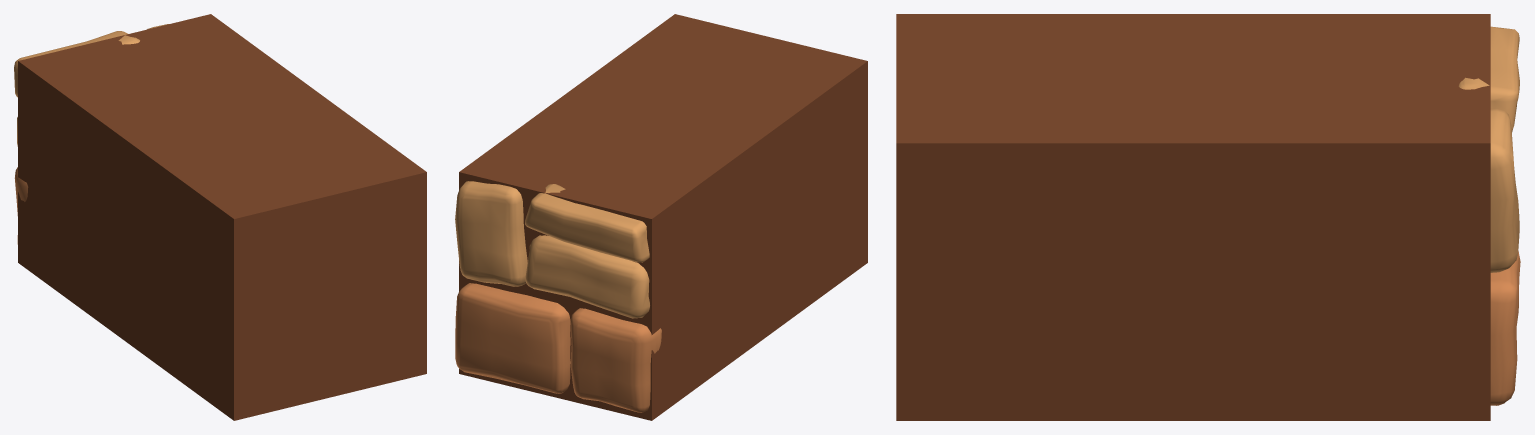
The model's file is SD_G13_Sandstone_Rock_V2.fbx.
3 renders of one model, left to right at view 1: azimuth 30°, elevation 25°; view 2: azimuth 150°, elevation 25°; view 3: azimuth 270°, elevation 25°, orthographic. The views are drawn at different scales.
Parts seen in each view (by area): view 1: SD_G13_Sandstone_Rock_V2; view 2: SD_G13_Sandstone_Rock_V2; view 3: SD_G13_Sandstone_Rock_V2.
Boxes of the visible parts, <box> form: SD_G13_Sandstone_Rock_V2: <box>14,14,426,420</box>; SD_G13_Sandstone_Rock_V2: <box>455,14,867,420</box>; SD_G13_Sandstone_Rock_V2: <box>896,14,1520,420</box>.
Bounding box in the file's own units: 202 × 202 × 408.
